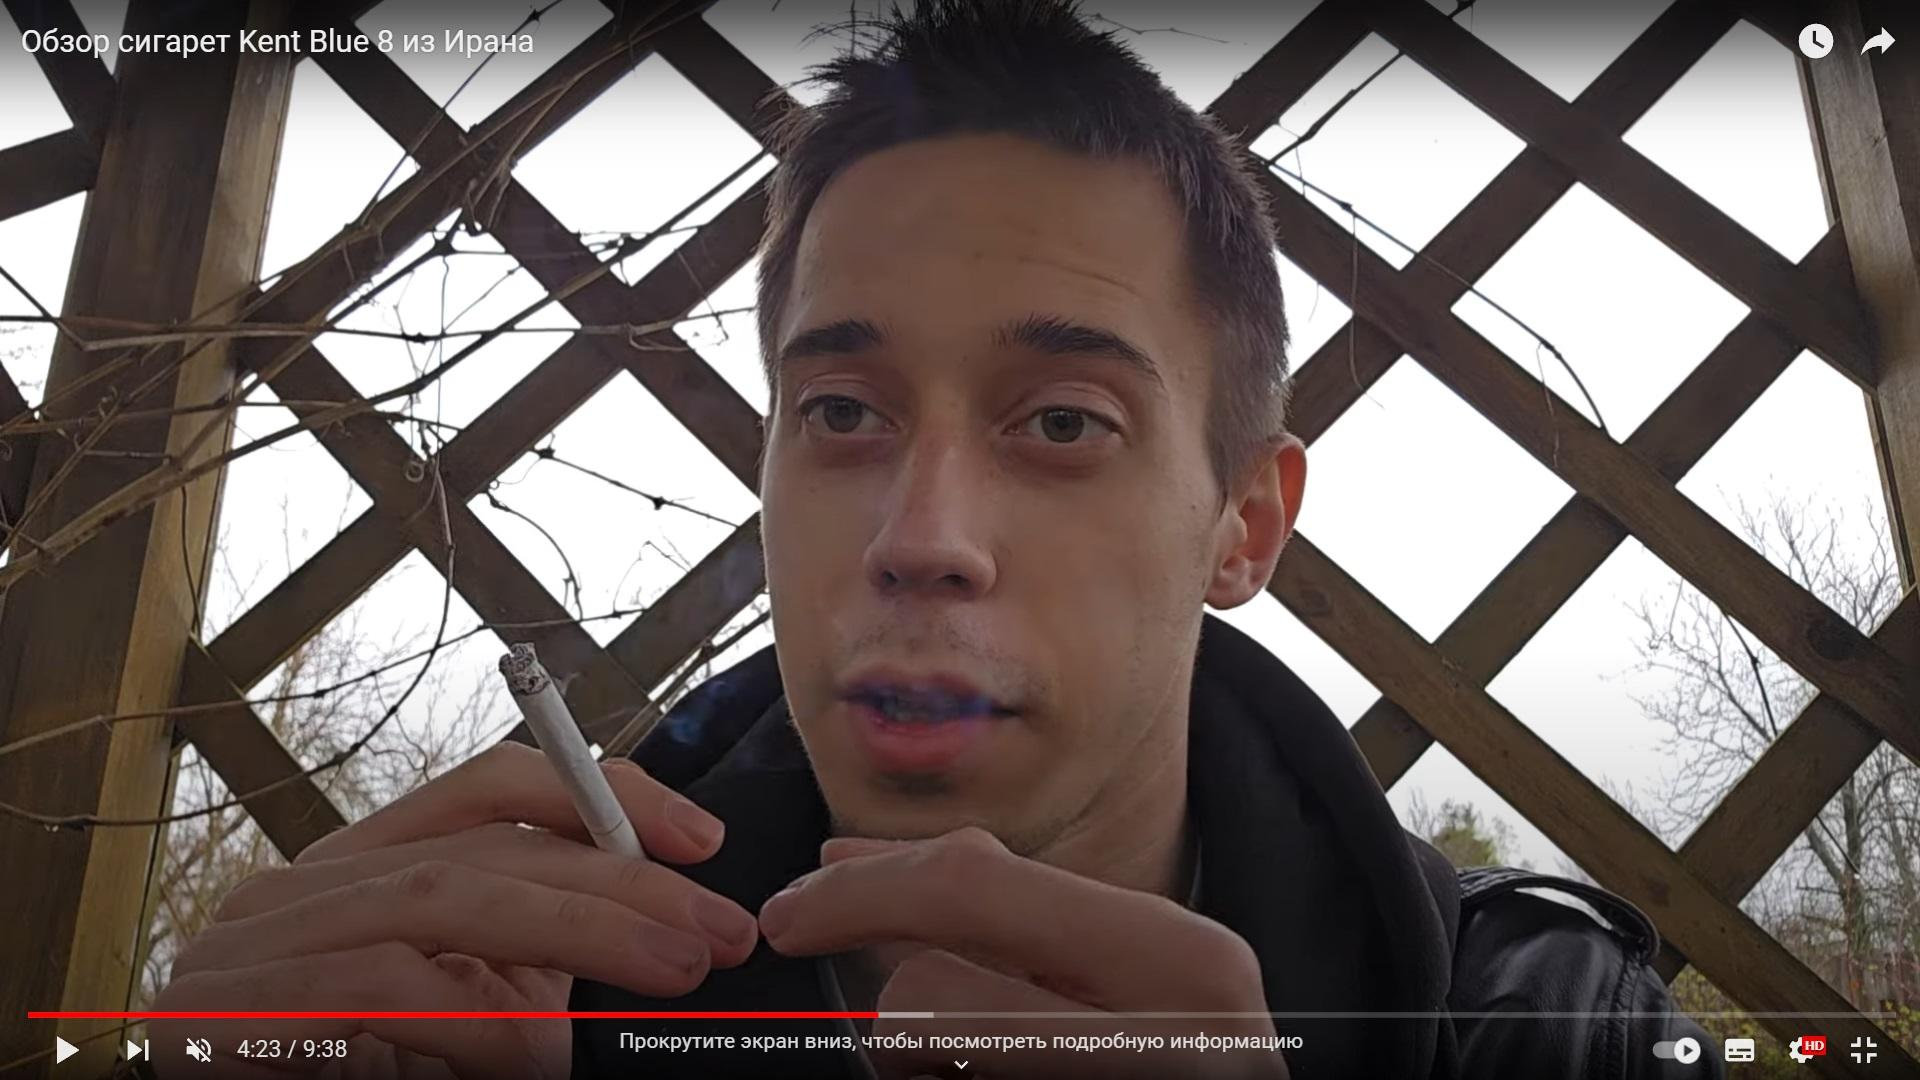cigarette: (498, 644, 647, 858)
